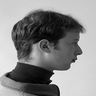ear: (35, 37, 56, 58)
